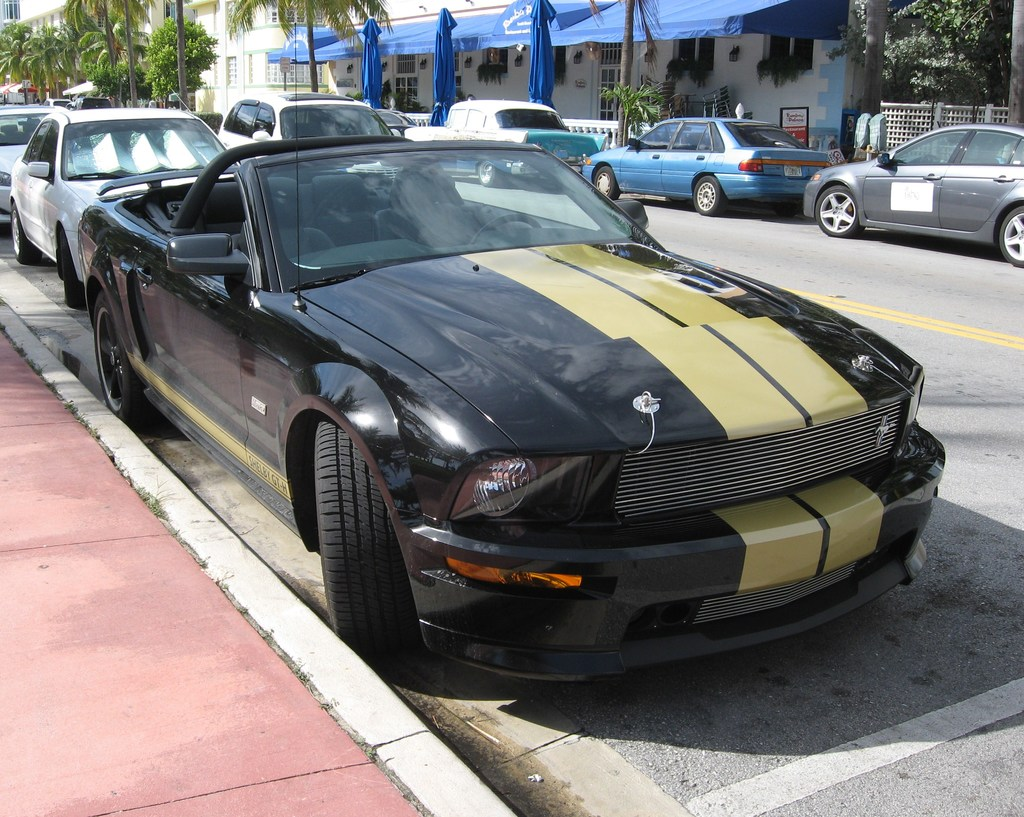Car: (76, 20, 947, 676), (7, 86, 245, 309), (801, 120, 1023, 267), (581, 114, 828, 216), (216, 88, 454, 175), (402, 100, 597, 167), (0, 105, 81, 223), (368, 105, 420, 139), (69, 95, 113, 114), (38, 95, 71, 108)
